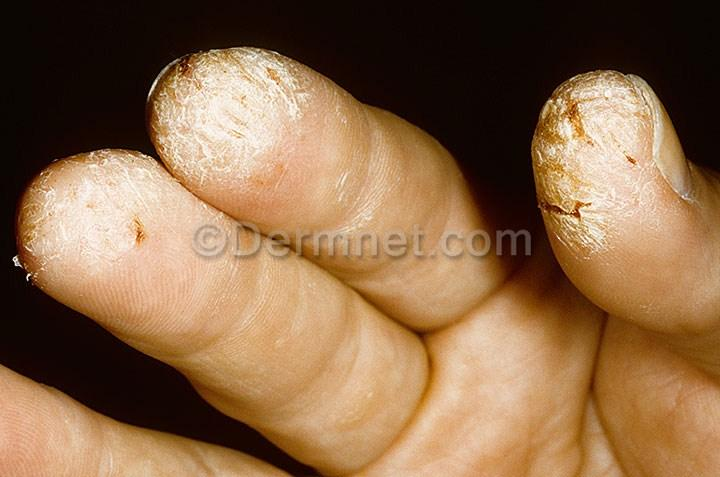Eczema: (528, 77, 663, 264), (17, 142, 177, 266), (175, 48, 294, 191)
